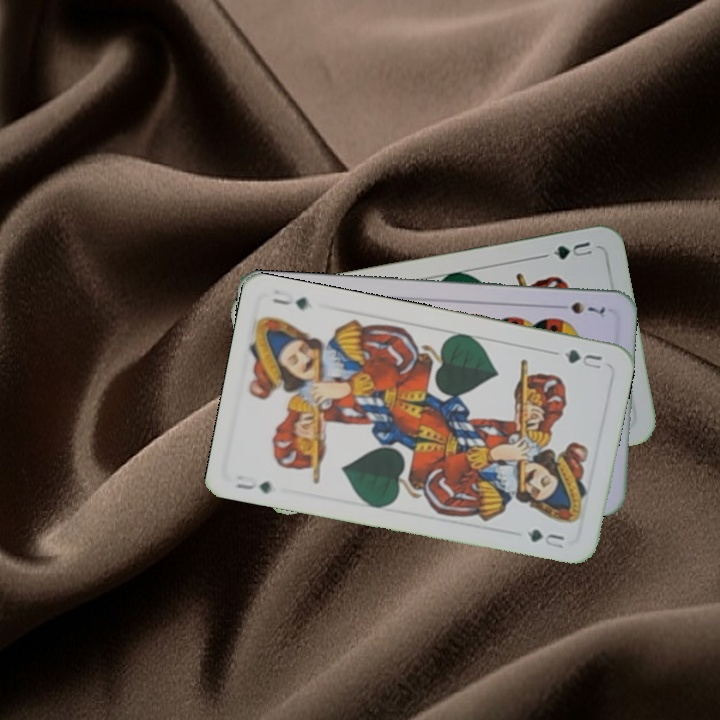GU: (560, 345, 605, 372), (549, 237, 595, 263), (231, 477, 274, 496)
S7: (552, 298, 608, 317)
